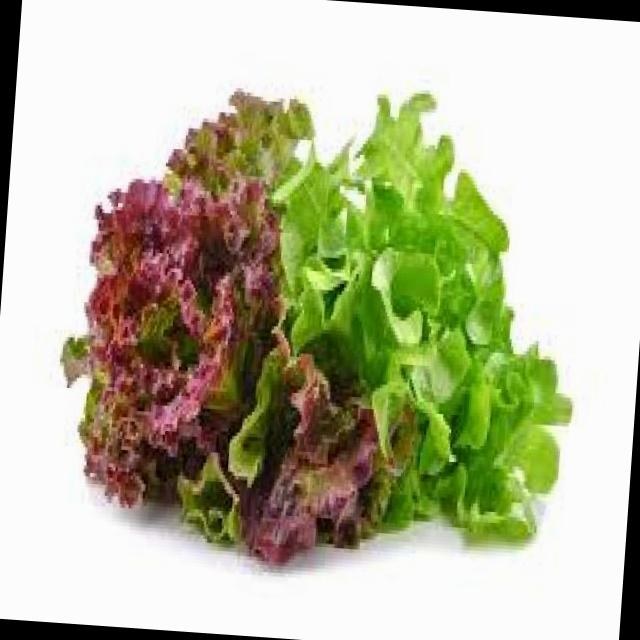Lettuce-Ready-to-Harvest: (81, 92, 568, 562)
